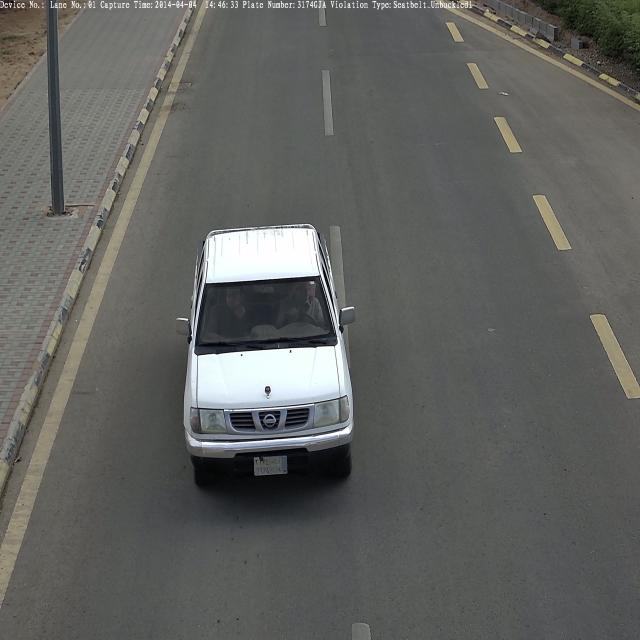person_with_seatbelt: (278, 282, 322, 331)
